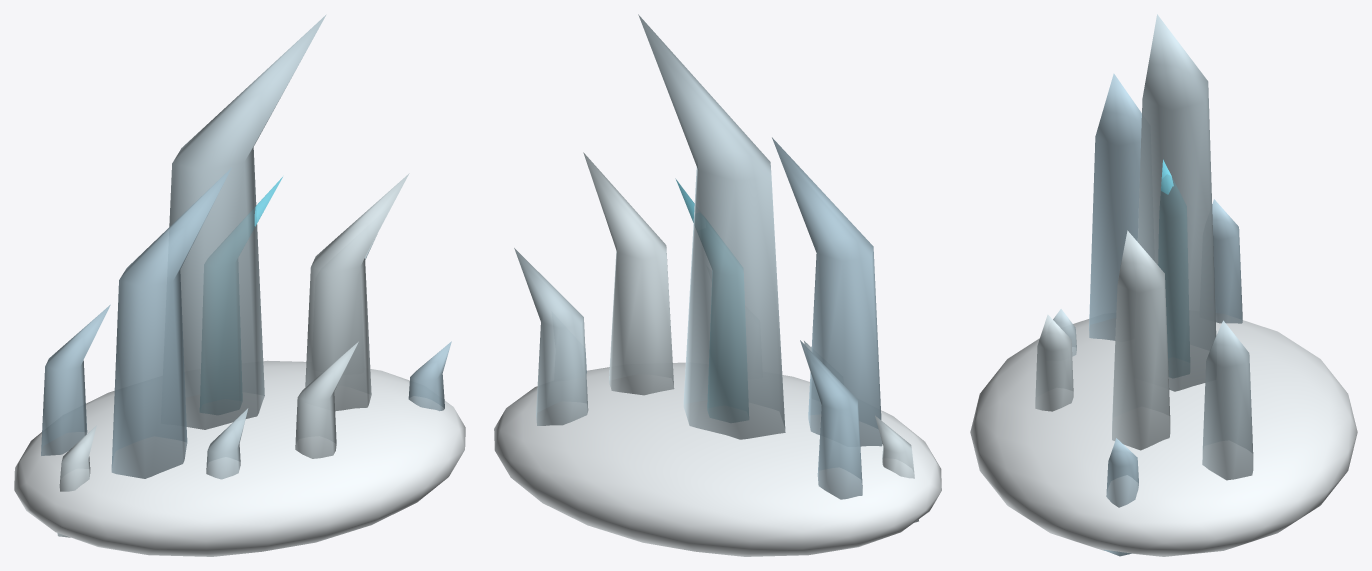
The model's file is prop_ice.gltf.
3 renders of one model, left to right at view 1: azimuth 30°, elevation 25°; view 2: azimuth 150°, elevation 25°; view 3: azimuth 270°, elevation 25°, orthographic. The views are drawn at different scales.
Visible parts, largest first — view 1: WindCarvedIce; view 2: WindCarvedIce; view 3: WindCarvedIce.
Boxes of the visible parts, x1,y1,x2,y2 form: WindCarvedIce: (14, 14, 465, 556); WindCarvedIce: (494, 14, 941, 556); WindCarvedIce: (970, 14, 1357, 556).
Bounding box in the file's own units: 2.3 × 2.52 × 1.7.
